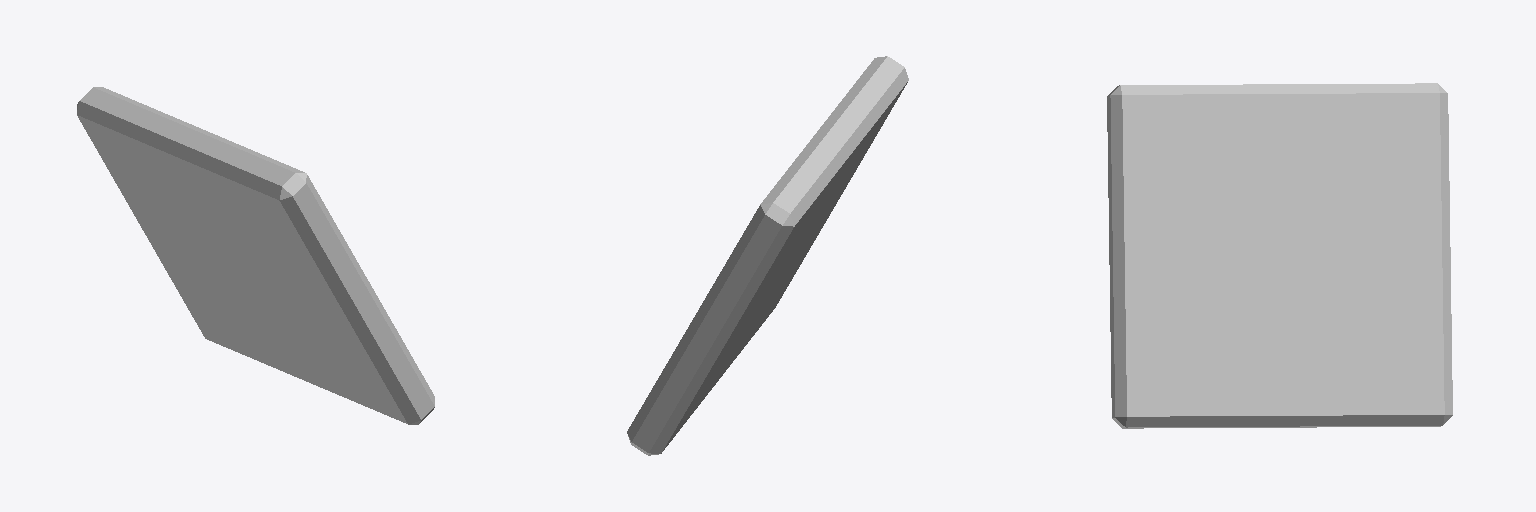
Rendered from compuertaBase.obj.
3 views of the same model, side by side, from view 1: azimuth 30°, elevation 25°; view 2: azimuth 150°, elevation 25°; view 3: azimuth 270°, elevation 25° (orthographic).
Parts seen in each view (by area): view 1: COMPUERTA2; view 2: COMPUERTA2; view 3: COMPUERTA2.
Part boxes in pixels (x1,y1,x2,y2): COMPUERTA2: (77, 87, 434, 424); COMPUERTA2: (627, 56, 908, 455); COMPUERTA2: (1107, 83, 1452, 428).
Bounding box in the file's own units: 0.1677 × 0.2352 × 0.2439.